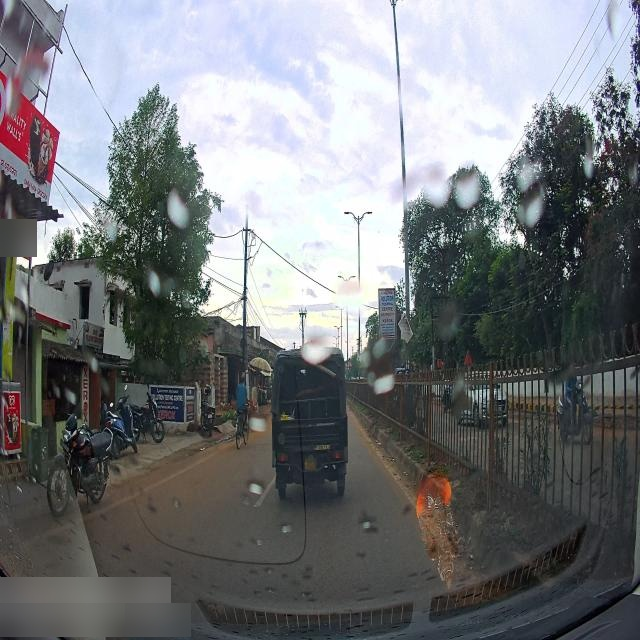pothole: (193, 432, 239, 453)
